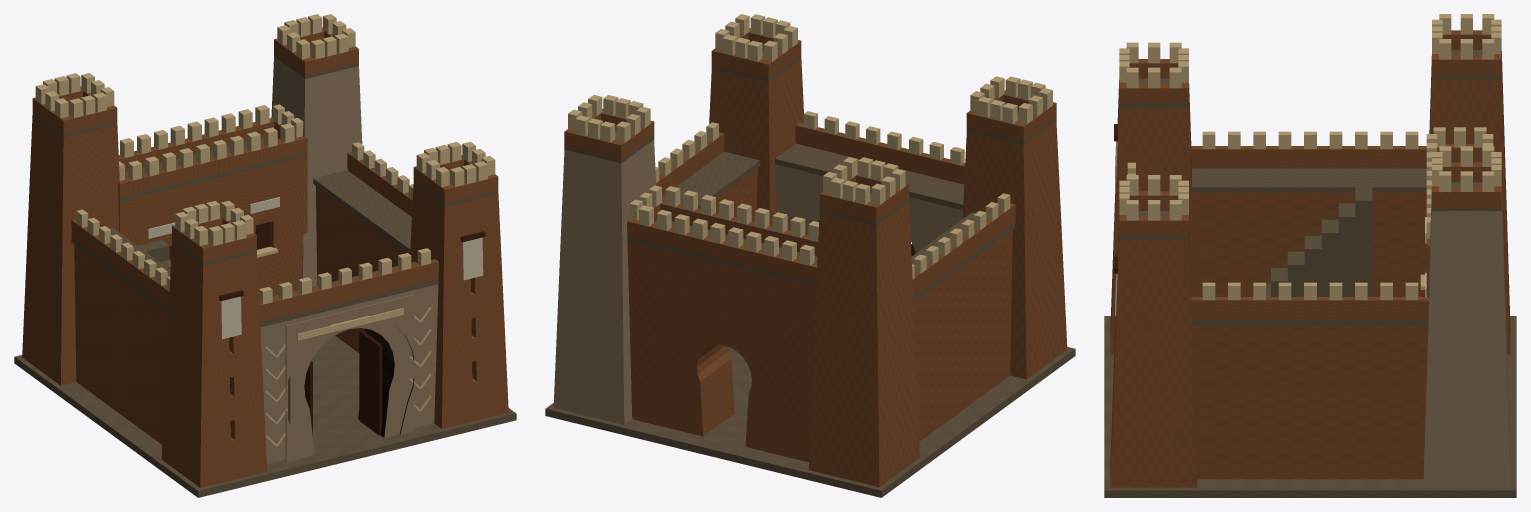
The model's file is Almohad_GrandKeep_Age4.fbx.
3 renders of one model, left to right at view 1: azimuth 30°, elevation 25°; view 2: azimuth 150°, elevation 25°; view 3: azimuth 270°, elevation 25°, orthographic. The views are drawn at different scales.
Visible parts, largest first — view 1: SW_battered_tower, NW_battered_tower, SE_battered_tower, foundation, W_curtain, N_royal_hall, NE_battered_tower, S_gatehouse, carved_stone_portal, E_curtain, lime_portal_outer_frame, S_gate_battlement (+20 smaller); view 2: N_royal_hall, NW_battered_tower, NE_battered_tower, SW_battered_tower, W_curtain, foundation, SE_battered_tower, S_gatehouse, S_gate_battlement, N_hall_parapet_N, S_gate_walk, E_walk (+14 smaller); view 3: E_curtain, NE_battered_tower, SE_battered_tower, W_curtain, foundation, SW_battered_tower, W_walk, NW_battered_tower, E_walk_battlement, W_walk_battlement, court_to_W_walk_stair.009, E_walk (+13 smaller).
Boxes of the visible parts, left/top/right/bottom form: SW_battered_tower: left=161, top=243, right=267, bottom=487; NW_battered_tower: left=22, top=115, right=119, bottom=385; SE_battered_tower: left=410, top=184, right=508, bottom=428; foundation: left=14, top=336, right=516, bottom=497; W_curtain: left=74, top=245, right=168, bottom=444; N_royal_hall: left=118, top=156, right=307, bottom=299; NE_battered_tower: left=271, top=56, right=362, bottom=286; S_gatehouse: left=260, top=284, right=438, bottom=463; carved_stone_portal: left=288, top=315, right=408, bottom=458; E_curtain: left=315, top=186, right=407, bottom=352; lime_portal_outer_frame: left=285, top=294, right=414, bottom=462; S_gate_battlement: left=259, top=259, right=438, bottom=322; N_royal_hall: left=627, top=240, right=816, bottom=462; NW_battered_tower: left=808, top=202, right=919, bottom=487; NE_battered_tower: left=553, top=139, right=655, bottom=424; SW_battered_tower: left=962, top=121, right=1067, bottom=379; W_curtain: left=913, top=230, right=1012, bottom=441; foundation: left=545, top=347, right=1075, bottom=497; SE_battered_tower: left=709, top=59, right=803, bottom=226; S_gatehouse: left=775, top=164, right=962, bottom=252; S_gate_battlement: left=795, top=122, right=965, bottom=184; N_hall_parapet_N: left=634, top=219, right=817, bottom=281; S_gate_walk: left=775, top=143, right=964, bottom=209; E_walk: left=662, top=151, right=760, bottom=208; E_curtain: left=1192, top=325, right=1428, bottom=479; NE_battered_tower: left=1423, top=183, right=1510, bottom=487; SE_battered_tower: left=1110, top=212, right=1197, bottom=487; W_curtain: left=1192, top=193, right=1426, bottom=296; foundation: left=1104, top=316, right=1516, bottom=497; SW_battered_tower: left=1110, top=80, right=1195, bottom=355; W_walk: left=1192, top=168, right=1426, bottom=192; NW_battered_tower: left=1426, top=51, right=1510, bottom=355; E_walk_battlement: left=1191, top=297, right=1428, bottom=319; W_walk_battlement: left=1191, top=146, right=1426, bottom=168; court_to_W_walk_stair.009: left=1355, top=187, right=1372, bottom=296; E_walk: left=1192, top=319, right=1428, bottom=325.
Size of the model in its own units: 624 by 528 by 624.
Materials: 6 (6 with a texture image).
